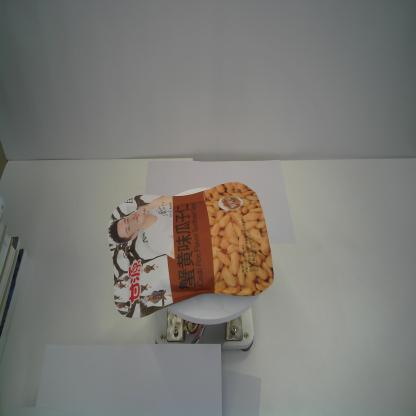Dried Fruit: (107, 180, 276, 319)
